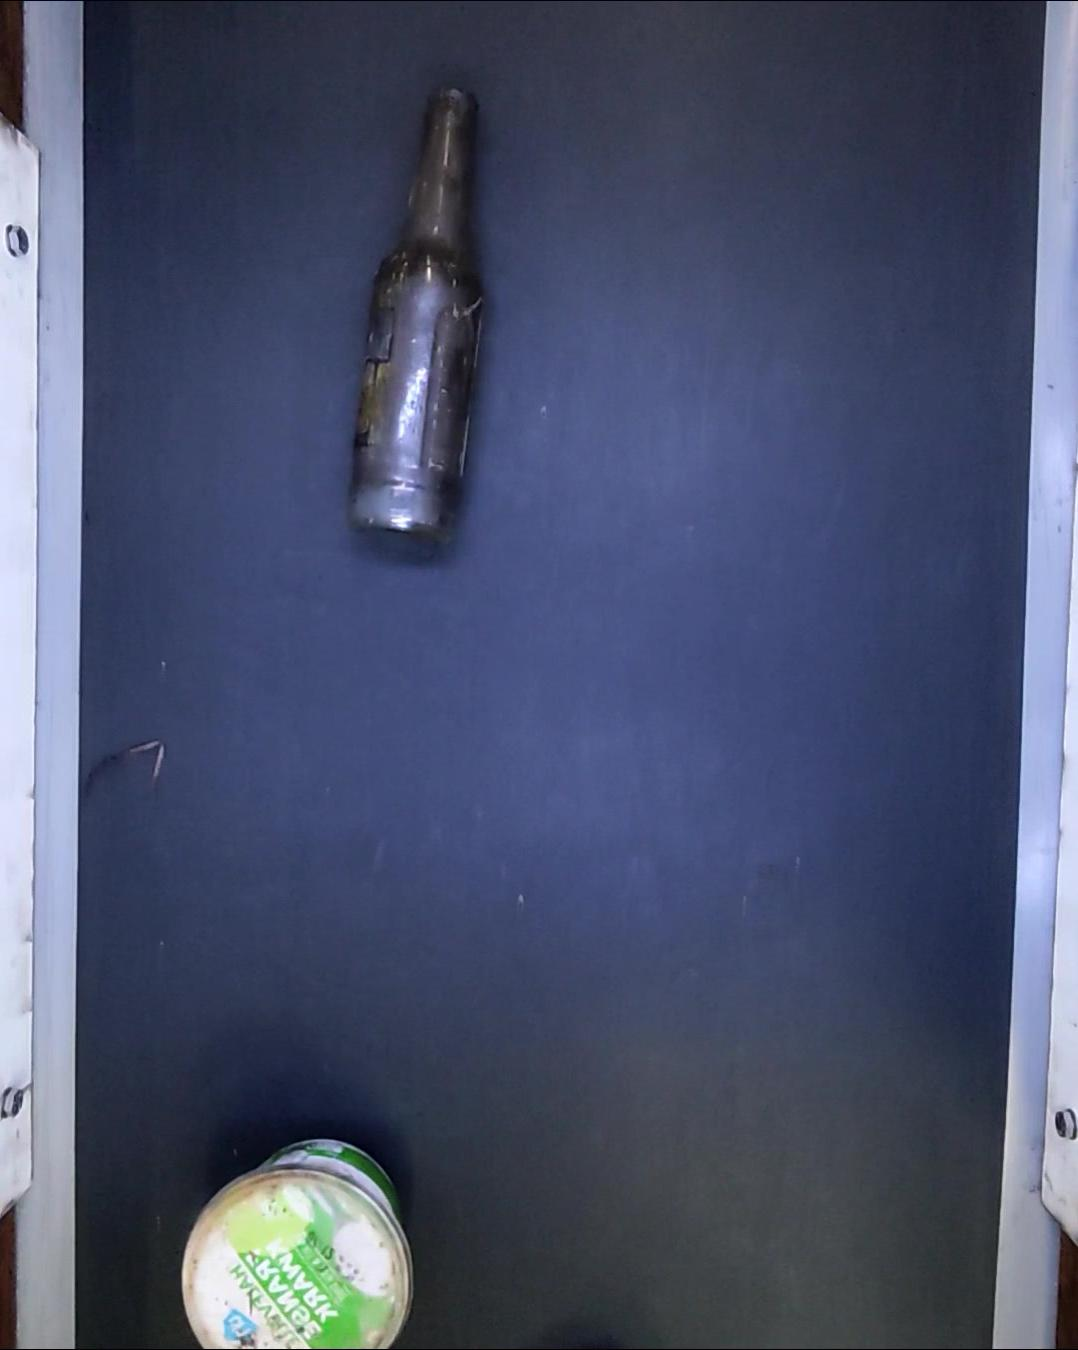Voedselverpakkingen: (182, 1132, 410, 1350)
